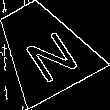N_NW: (10, 17, 77, 81)
